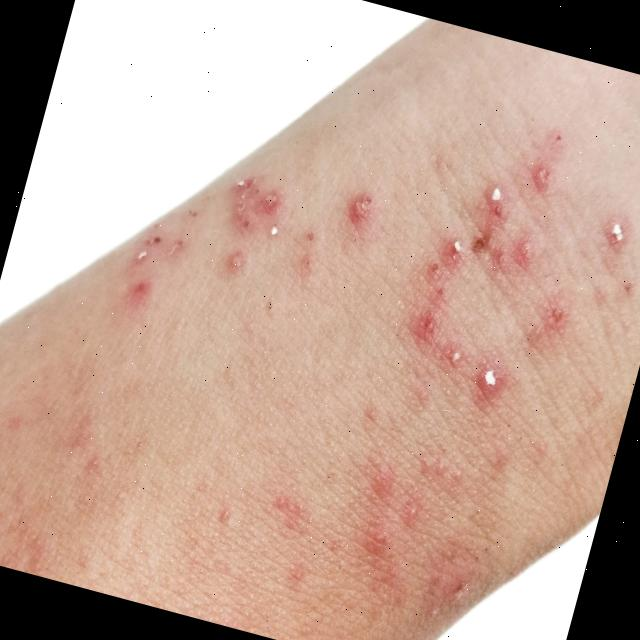kan emici bocekler: (217, 164, 295, 252), (120, 227, 188, 321), (409, 228, 471, 317), (515, 285, 582, 366), (456, 342, 523, 422), (460, 181, 521, 268), (520, 118, 579, 206), (482, 216, 547, 294), (331, 173, 387, 250), (398, 296, 461, 361), (263, 482, 324, 549), (583, 201, 640, 269), (428, 321, 480, 390), (385, 476, 434, 546), (217, 239, 255, 291), (184, 204, 204, 226)
